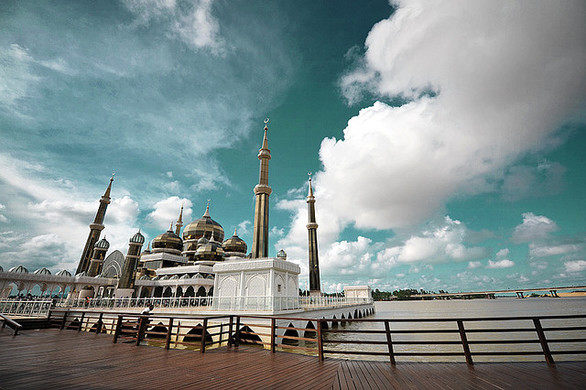Mosque: (62, 128, 371, 328)
